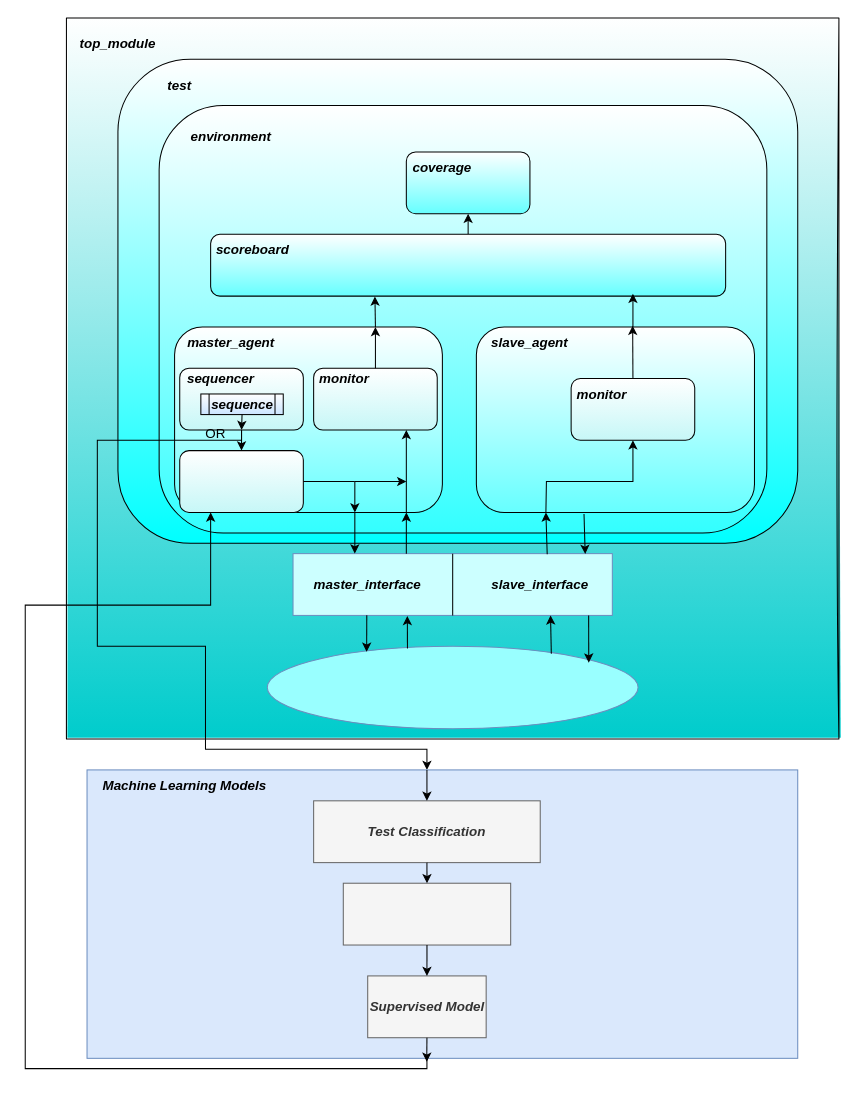
The diagram is 857 pixels wide and 1095 high, and some of its shapes have lost their labels. Each missing label, with the centre of its shape:
AHB_BUS (DUT): (x=452, y=687)
driver: (x=241, y=481)
Unsupervised Model: (x=426, y=913)
